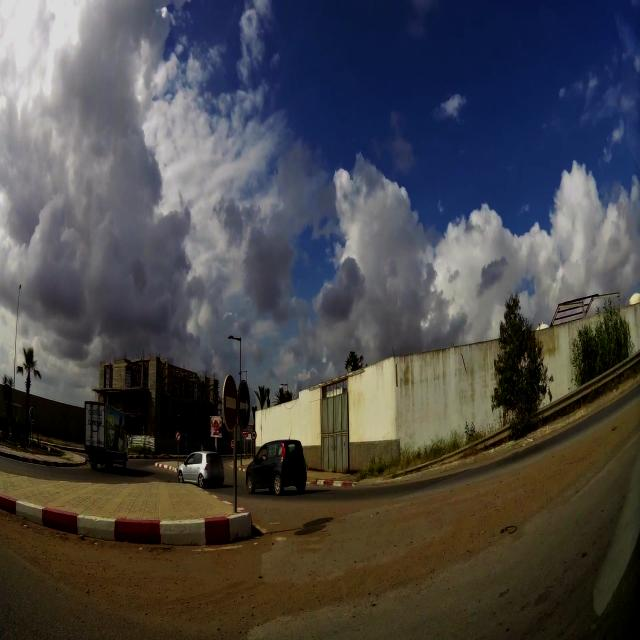car: (245, 437, 308, 496), (178, 449, 224, 488)
